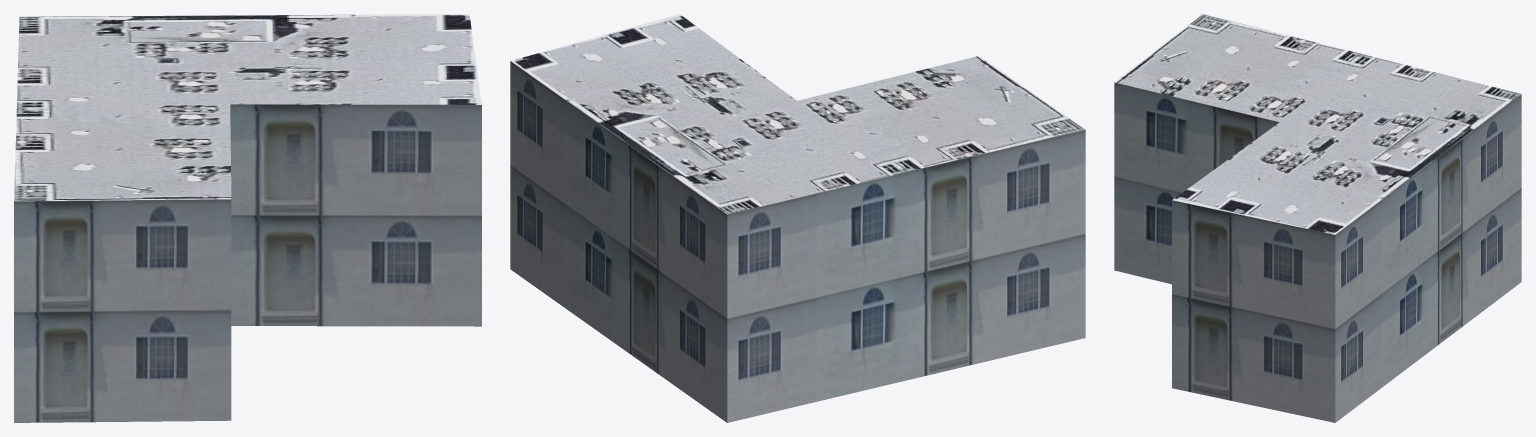
Rendered from ResTex__4068.fbx.
The picture shows the model from 3 angles, left to right: view 1: azimuth 30°, elevation 25°; view 2: azimuth 150°, elevation 25°; view 3: azimuth 270°, elevation 25°; orthographic projection. The views are drawn at different scales.
Visible parts, largest first — view 1: CityEngineMaterial_17_m, CityEngineMaterial_m; view 2: CityEngineMaterial_17_m, CityEngineMaterial_m; view 3: CityEngineMaterial_17_m, CityEngineMaterial_m.
Boxes of the visible parts, left/top/right/bottom form: CityEngineMaterial_17_m: left=14, top=104, right=481, bottom=422; CityEngineMaterial_m: left=14, top=14, right=481, bottom=201; CityEngineMaterial_17_m: left=510, top=61, right=1085, bottom=422; CityEngineMaterial_m: left=511, top=14, right=1084, bottom=214; CityEngineMaterial_17_m: left=1114, top=82, right=1521, bottom=422; CityEngineMaterial_m: left=1114, top=14, right=1520, bottom=234.
Bounding box in the file's own units: 15.12 × 6 × 11.77.
Materials: 2 (2 with a texture image).
